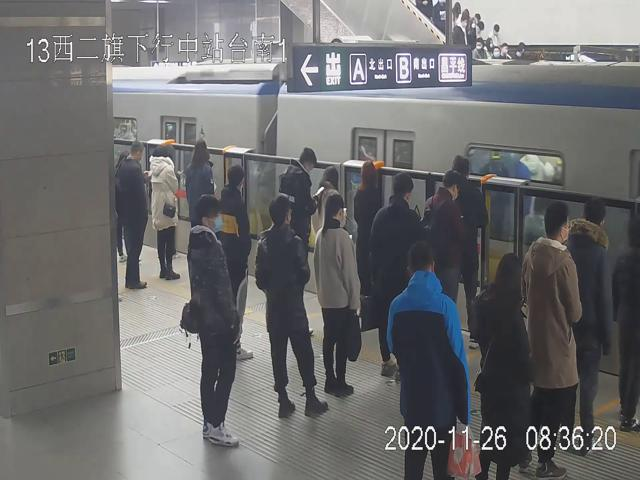person: (385, 239, 471, 480), (254, 196, 329, 418), (524, 200, 581, 480), (472, 252, 532, 480), (188, 194, 241, 448), (568, 196, 614, 454), (369, 172, 425, 382), (314, 193, 360, 395), (218, 165, 254, 360), (423, 171, 462, 303), (148, 144, 180, 280), (278, 146, 317, 256), (119, 141, 147, 288), (185, 140, 215, 221)
